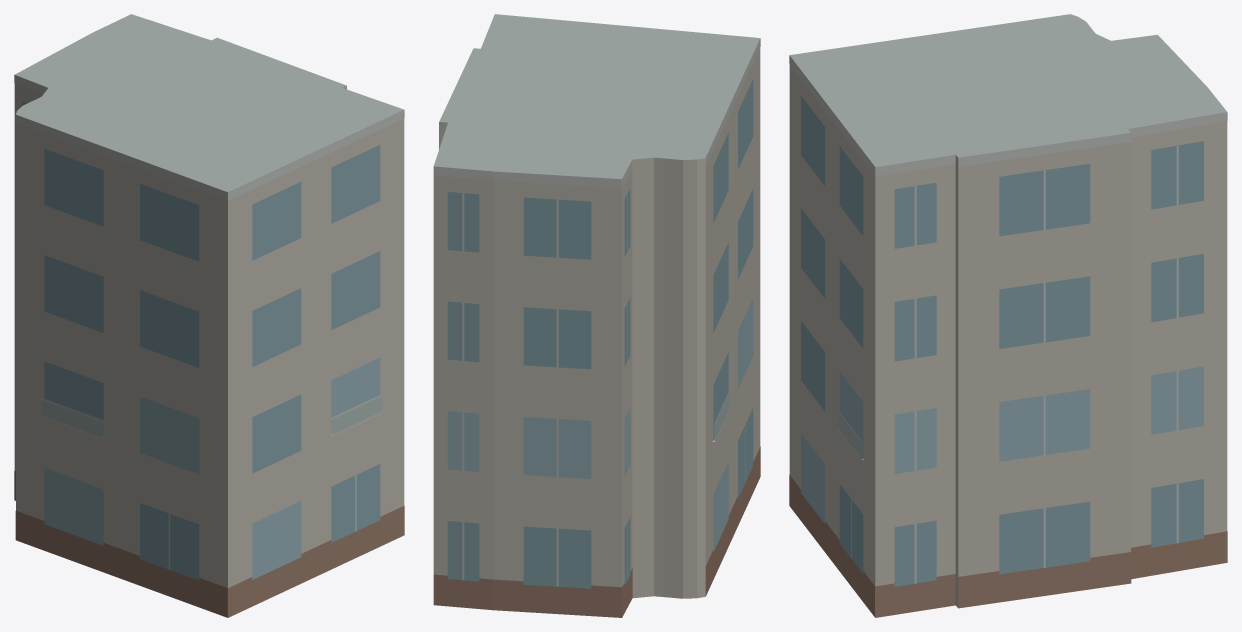
The model's file is survey-upis-32465759.glb.
The picture shows the model from 3 angles, left to right: view 1: azimuth 30°, elevation 25°; view 2: azimuth 150°, elevation 25°; view 3: azimuth 270°, elevation 25°; orthographic projection. The views are drawn at different scales.
Visible parts, largest first — view 1: survey-upis-32465759.tmp; view 2: survey-upis-32465759.tmp; view 3: survey-upis-32465759.tmp.
Part boxes in pixels (x1,y1,x2,y2): survey-upis-32465759.tmp: (14,14,404,617); survey-upis-32465759.tmp: (433,14,760,617); survey-upis-32465759.tmp: (789,14,1227,617).
Size of the model in its own units: 8.76 by 12 by 10.58.
